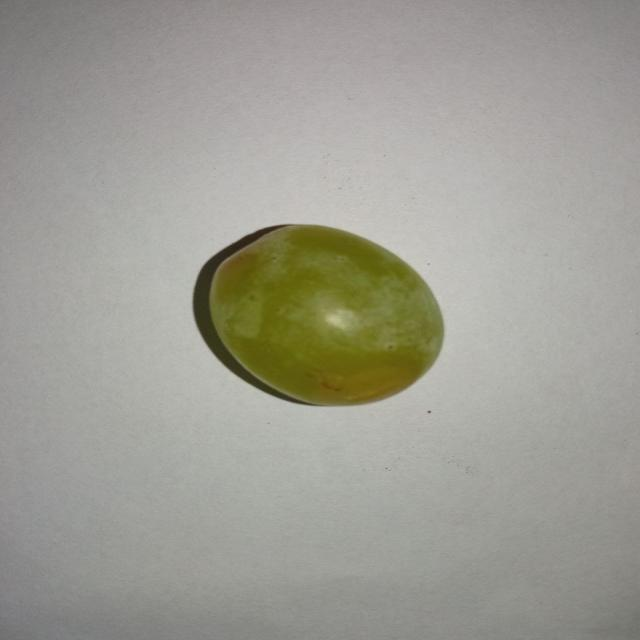fresh_grape: (202, 221, 448, 407)
